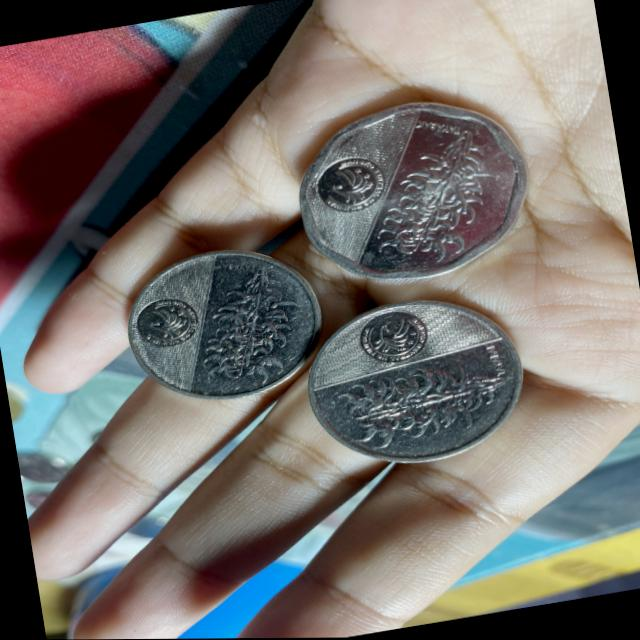5_New_Back: (376, 127, 502, 269), (344, 354, 504, 452), (198, 261, 305, 389)
